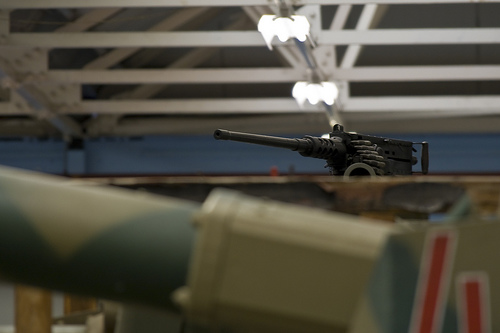rifle: (204, 118, 459, 180)
